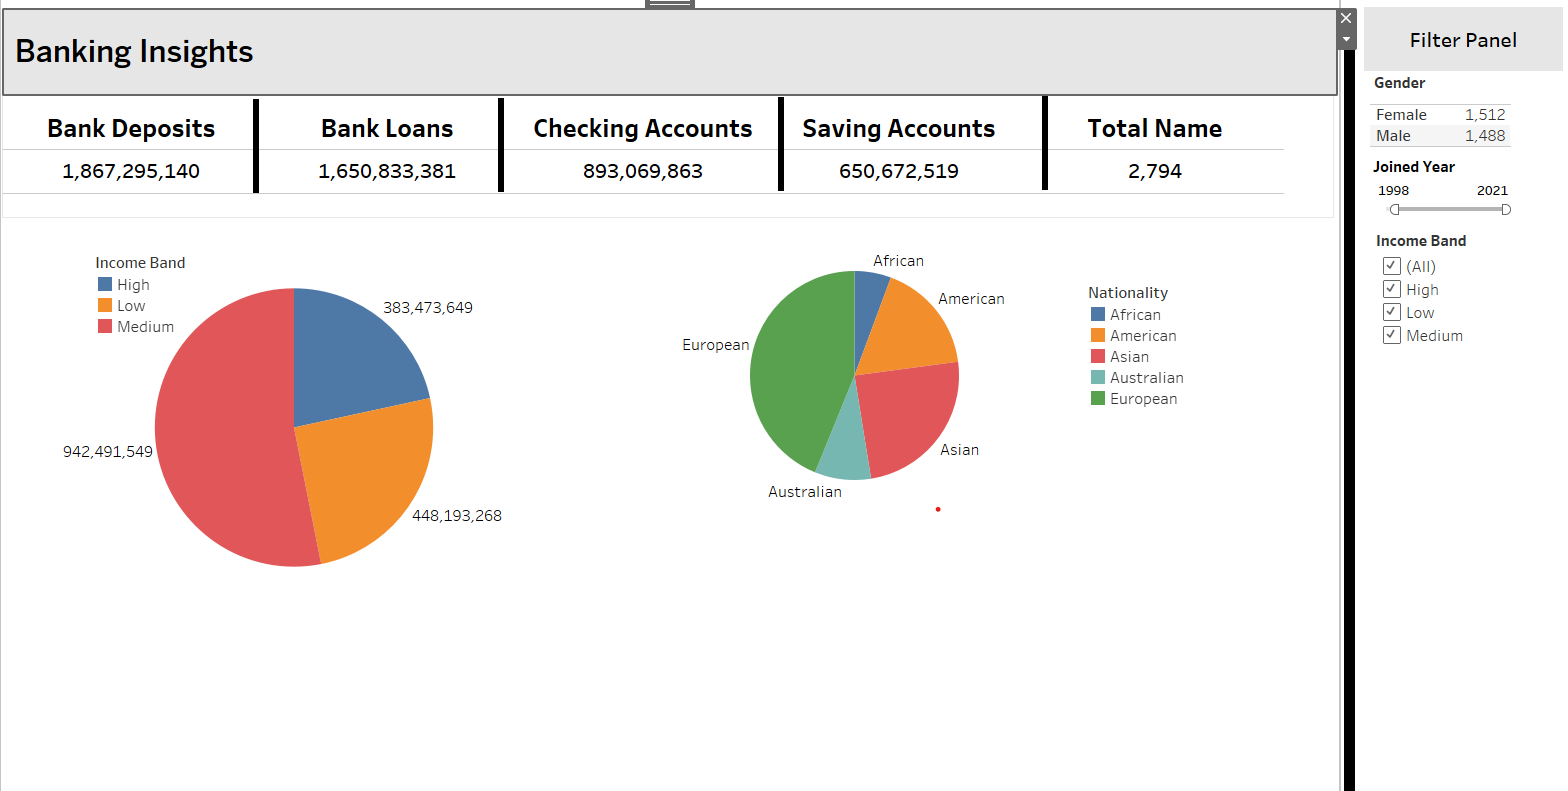

The page's visual inventory and layout, read from the dashboard file:
{"tool":"tableau","page":{"name":"Dashboard 1","canvas":[1580,900],"ordinal":0},"visuals":[{"type":"worksheet","title":"Sheet 6","mark":"Automatic","box":[8,8,1338,884]},{"type":"text","box":[1371,15,199,64]},{"type":"text","box":[11,18,1332,84]},{"type":"blank","box":[1351,18,11,786]},{"type":"worksheet","title":"Sheet 2","mark":"Automatic","rows":["Calculation_980377352858931207"],"box":[1377,76,158,155]},{"type":"worksheet","title":"Sheet 1","mark":"Automatic","box":[9,97,1332,129]},{"type":"blank","box":[1049,104,6,94]},{"type":"blank","box":[785,105,6,94]},{"type":"blank","box":[505,106,6,94]},{"type":"blank","box":[260,107,6,94]},{"type":"filter","title":"Sheet 1","param":"[federated.0vv5ei50yta78c1gpy8br0egrczp].[none:Calculation_980377353167011849:qk","box":[1380,164,142,65]},{"type":"worksheet","title":"Sheet 3","mark":"Pie","box":[10,236,610,426]},{"type":"worksheet","title":"Sheet 4","mark":"Pie","box":[622,236,719,382]},{"type":"filter","title":"Sheet 6","param":"[federated.0vv5ei50yta78c1gpy8br0egrczp].[none:Calculation_980377353189269514:nk","box":[1383,238,146,128]},{"type":"legend","title":"Sheet 3","param":"[federated.0vv5ei50yta78c1gpy8br0egrczp].[none:Calculation_980377353189269514:nk","box":[102,260,140,85]},{"type":"legend","title":"Sheet 4","param":"[federated.0vv5ei50yta78c1gpy8br0egrczp].[none:Nationality:nk]","box":[1095,290,140,127]}]}

Visuals, with their boxes on the page's 1580x900 design canvas (x1, y1, x2, y2). These are canvas units, not pixel positions in the 1568x791 screenshot, which may show the page scaled, cropped or inside an application window:
"Sheet 6" worksheet: 8,8,1346,892
text: 1371,15,1570,79
text: 11,18,1343,102
blank: 1351,18,1362,804
"Sheet 2" worksheet: 1377,76,1535,231
"Sheet 1" worksheet: 9,97,1341,226
blank: 1049,104,1055,198
blank: 785,105,791,199
blank: 505,106,511,200
blank: 260,107,266,201
"Sheet 1" filter: 1380,164,1522,229
"Sheet 3" worksheet (Pie marks): 10,236,620,662
"Sheet 4" worksheet (Pie marks): 622,236,1341,618
"Sheet 6" filter: 1383,238,1529,366
"Sheet 3" legend: 102,260,242,345
"Sheet 4" legend: 1095,290,1235,417
